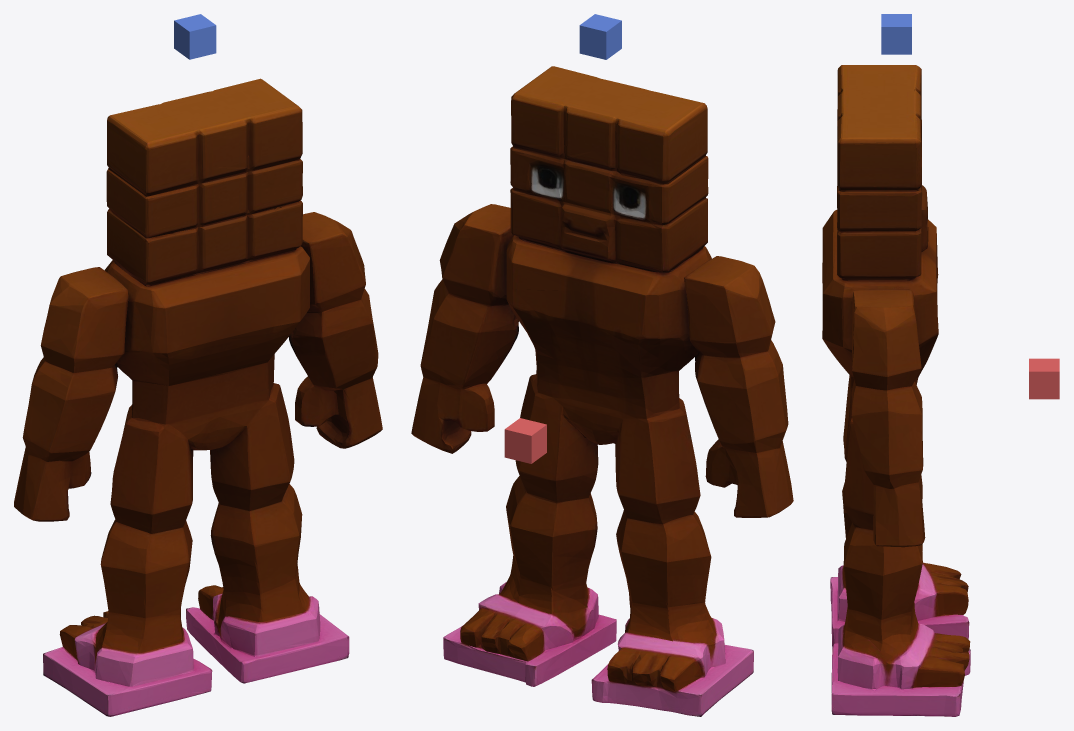
The model's file is Cioccolatone.glb.
3 renders of one model, left to right at view 1: azimuth 30°, elevation 25°; view 2: azimuth 150°, elevation 25°; view 3: azimuth 270°, elevation 25°, orthographic.
Parts seen in each view (by area): view 1: Cioccolatone_Body, Cioccolatone_Leg2, Cioccolatone_Leg1, Cioccolatone_Top; view 2: Cioccolatone_Body, Cioccolatone_Leg2, Cioccolatone_Leg1, Cioccolatone_Top, Cioccolatone_Front; view 3: Cioccolatone_Body, Cioccolatone_Leg1, Cioccolatone_Leg2, Cioccolatone_Front, Cioccolatone_Top.
Part boxes in pixels (x1,y1,x2,y2): Cioccolatone_Body: (17,78,382,509); Cioccolatone_Leg2: (14,467,210,716); Cioccolatone_Leg1: (185,433,349,690); Cioccolatone_Top: (174,14,216,59); Cioccolatone_Body: (411,66,790,536); Cioccolatone_Leg2: (591,446,793,716); Cioccolatone_Leg1: (443,412,629,686); Cioccolatone_Top: (579,14,621,59); Cioccolatone_Front: (504,418,546,463); Cioccolatone_Body: (822,65,938,547); Cioccolatone_Leg1: (831,461,970,716); Cioccolatone_Leg2: (830,411,969,645); Cioccolatone_Front: (1029,358,1059,399); Cioccolatone_Top: (881,14,911,54).
Size of the model in its own units: 3.37 by 5.72 by 1.94.
Materials: 1 (1 with a texture image).
